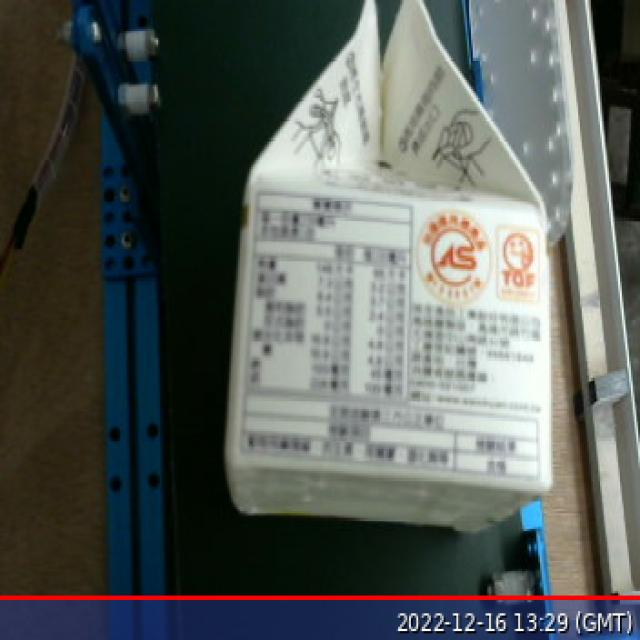non_white_jug: (216, 0, 568, 549)
